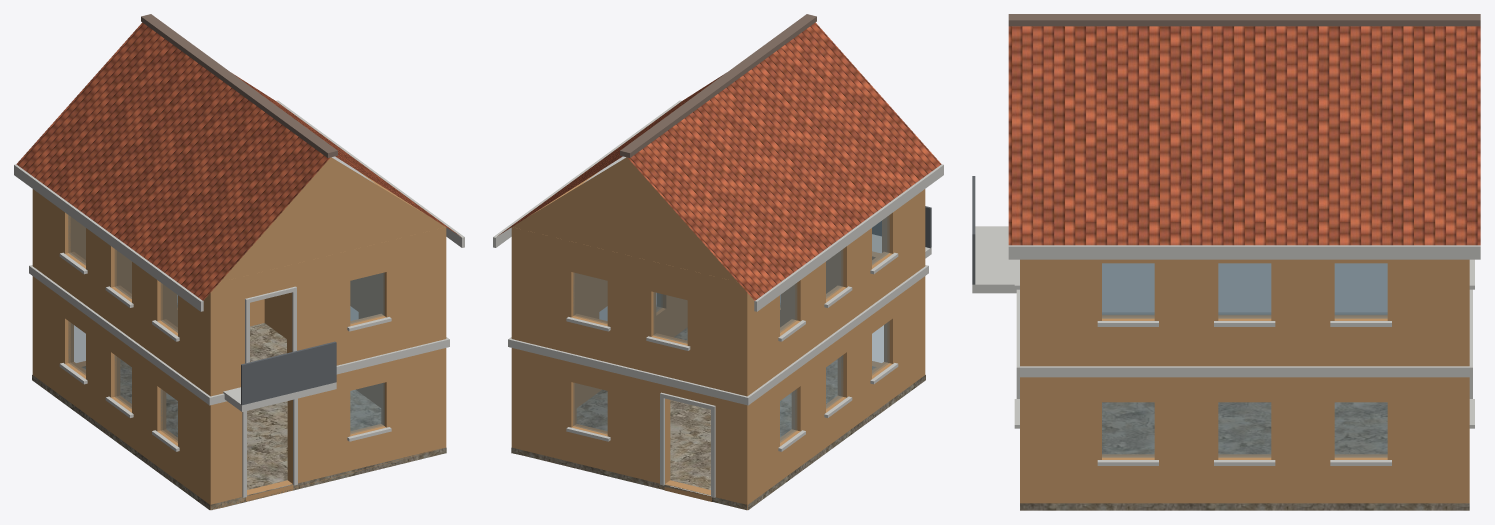
File: cove-house-orange.zfix-v7.lod1.glb
3 views of the same model, side by side, from view 1: azimuth 30°, elevation 25°; view 2: azimuth 150°, elevation 25°; view 3: azimuth 270°, elevation 25° (orthographic). The views are drawn at different scales.
Visible parts, largest first — view 1: cove-house-orange; view 2: cove-house-orange; view 3: cove-house-orange.
Part boxes in pixels (x1,y1,x2,y2): cove-house-orange: (14,14,464,510); cove-house-orange: (493,14,943,510); cove-house-orange: (972,14,1480,510).
Size of the model in its own units: 7.28 by 8.78 by 9.61.
Materials: 4 (2 with a texture image).
